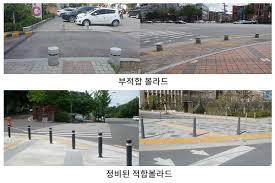Animal: (106, 46, 131, 70), (117, 139, 134, 168), (42, 46, 62, 70), (89, 131, 105, 159), (67, 129, 81, 148), (2, 121, 15, 138), (22, 125, 34, 141), (46, 129, 57, 144), (158, 41, 168, 52)
